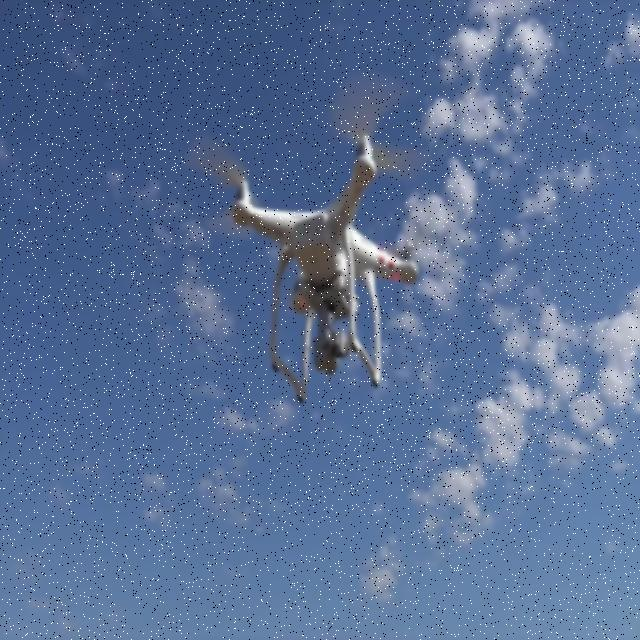UAV: (187, 75, 439, 402)
